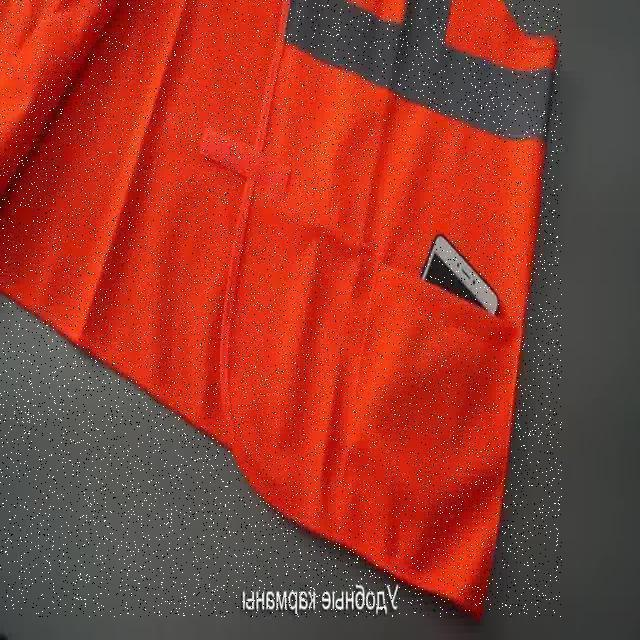safety_vest: (0, 0, 562, 617)
